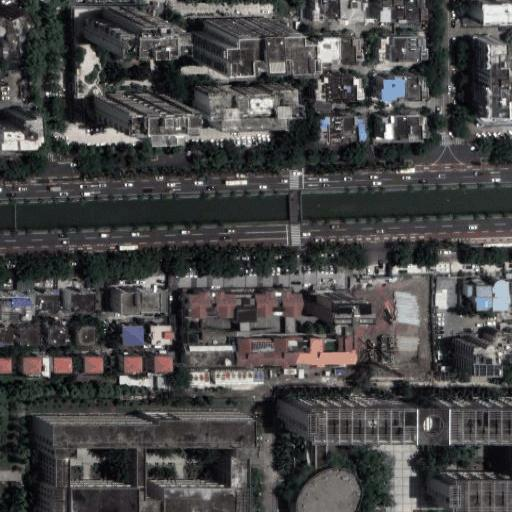building: (277, 394, 512, 504), (34, 415, 239, 512), (186, 18, 279, 62), (182, 82, 278, 124), (296, 468, 363, 512), (475, 43, 512, 118), (82, 6, 156, 42), (92, 88, 165, 123), (280, 335, 341, 368), (166, 265, 248, 287), (315, 77, 363, 111), (465, 281, 512, 312), (382, 113, 429, 143), (326, 296, 376, 324), (320, 116, 367, 145), (234, 336, 281, 365), (382, 75, 428, 104), (379, 37, 428, 61), (257, 291, 304, 316), (468, 343, 502, 376), (0, 12, 24, 57), (390, 288, 419, 324), (186, 345, 234, 366), (431, 273, 459, 309), (109, 292, 152, 315), (213, 365, 264, 383), (313, 429, 331, 477), (398, 257, 454, 272), (183, 290, 212, 318), (2, 296, 32, 323), (0, 108, 20, 143), (340, 35, 365, 63), (483, 3, 512, 27), (32, 291, 60, 315), (212, 290, 236, 318), (236, 291, 257, 323), (67, 292, 96, 314), (493, 330, 512, 361), (319, 36, 341, 62), (339, 324, 357, 352), (20, 357, 43, 377), (82, 355, 106, 374), (149, 326, 174, 344), (146, 357, 174, 372), (186, 366, 207, 386), (124, 325, 144, 345), (51, 357, 73, 375), (18, 328, 41, 345), (47, 327, 67, 346), (76, 327, 97, 345), (122, 357, 142, 373), (202, 318, 231, 329), (284, 316, 297, 335), (341, 352, 357, 367), (0, 327, 13, 345), (0, 357, 11, 374), (43, 357, 51, 377), (506, 272, 512, 281)
